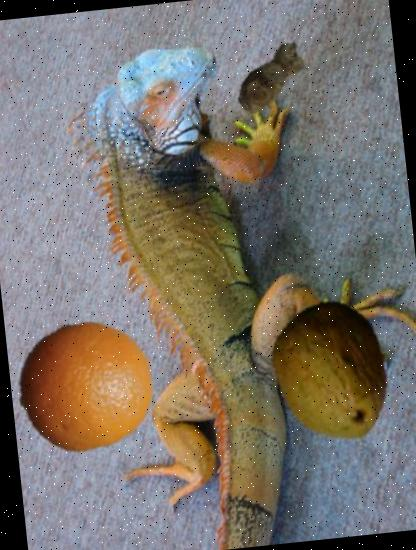Ginger: (223, 30, 319, 126)
Orange: (11, 311, 160, 460)
Papaya: (254, 294, 414, 453)
